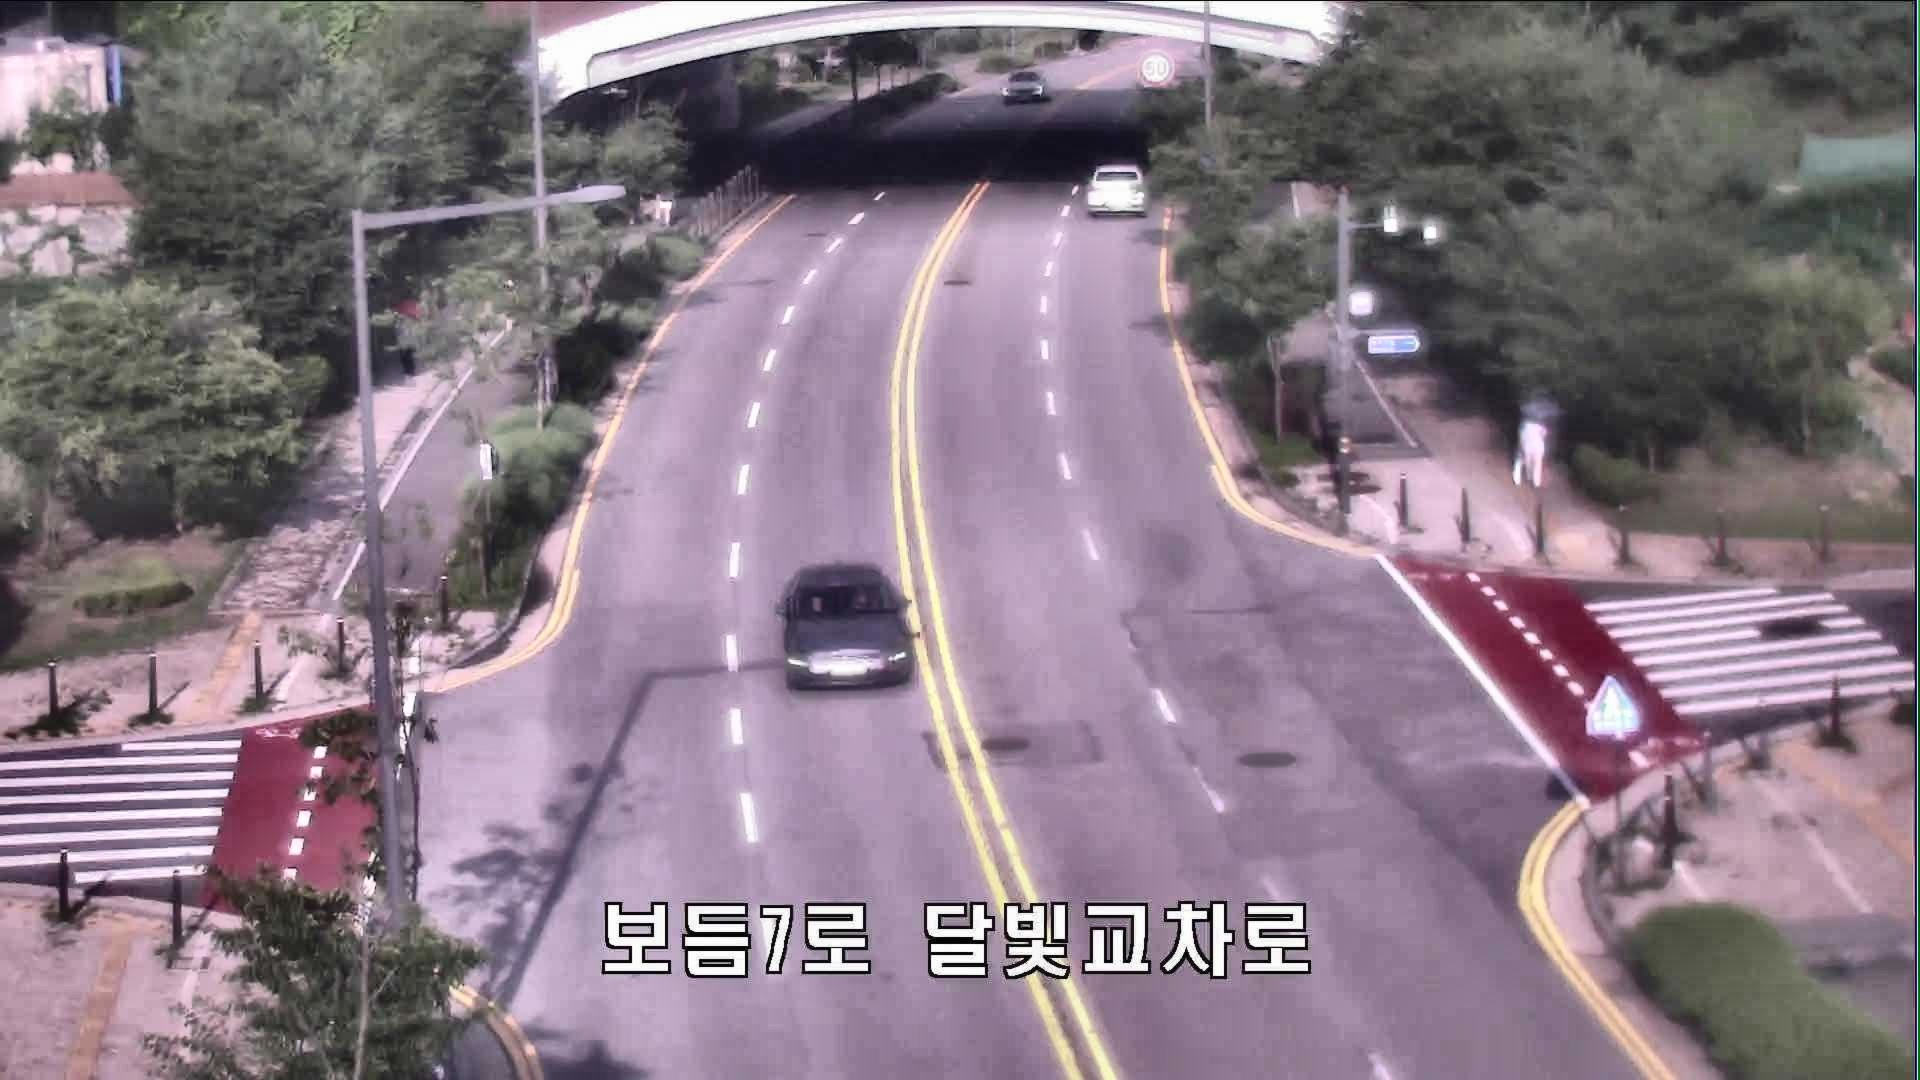um_sidewalk: (1518, 397, 1548, 491)
